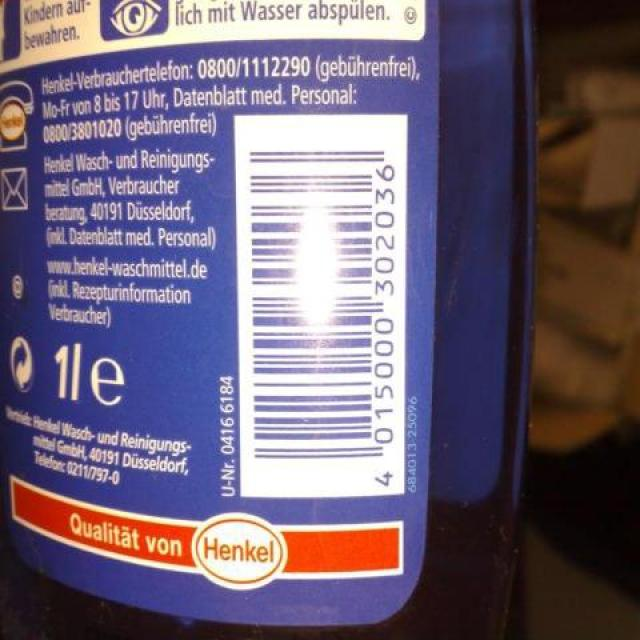Barcode: (234, 113, 407, 503)
